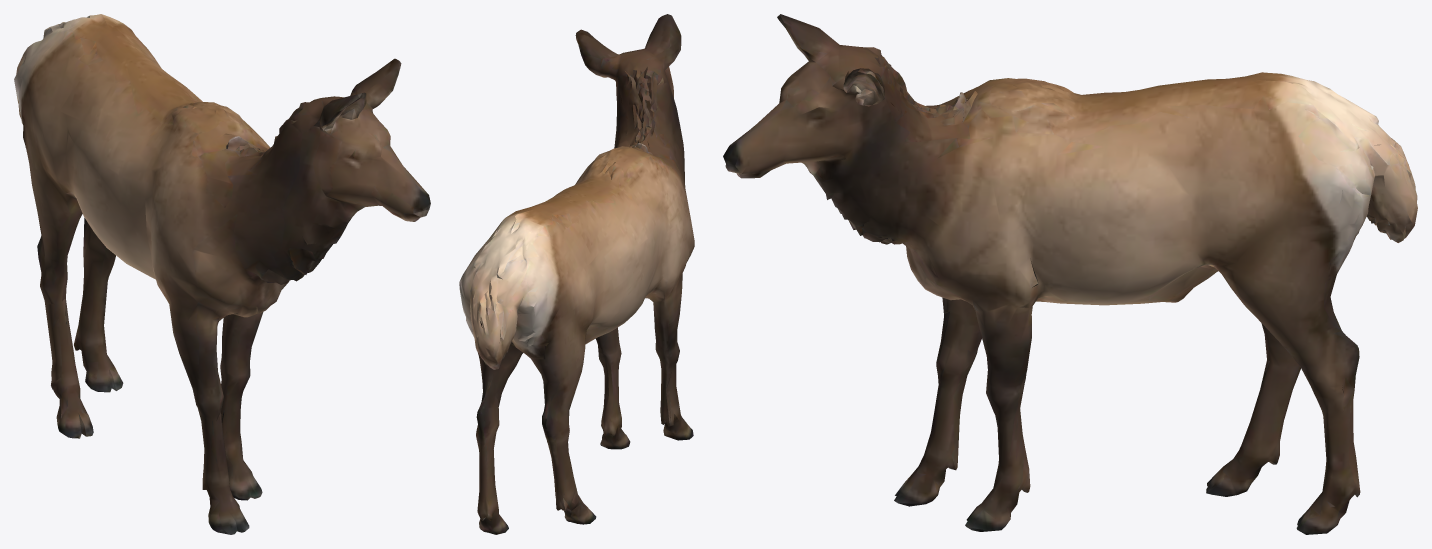
Rendered from elk-cow.phone.glb.
The picture shows the model from 3 angles, left to right: view 1: azimuth 30°, elevation 25°; view 2: azimuth 150°, elevation 25°; view 3: azimuth 270°, elevation 25°; orthographic projection. The views are drawn at different scales.
Parts seen in each view (by area): view 1: elk-cow; view 2: elk-cow; view 3: elk-cow.
Boxes of the visible parts, left/top/right/bottom form: elk-cow: left=14, top=14, right=430, bottom=534; elk-cow: left=459, top=14, right=694, bottom=534; elk-cow: left=723, top=14, right=1417, bottom=534.
Size of the model in its own units: 1.2 by 2.8 by 3.37.
Materials: 1 (1 with a texture image).
